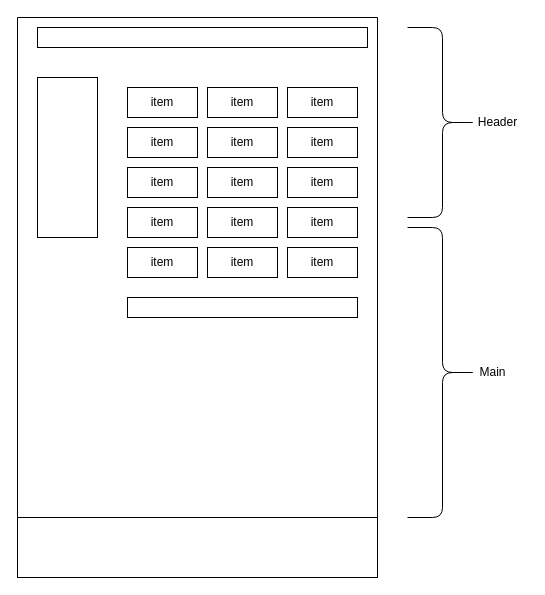
Some shapes in this 545 by 595 pixel diagram are drawn without their labels. The box of each missing label's shape, as (x1, y1, x2, y2) in pixels:
Bộ lọc filter: (36, 76, 98, 238)
Footer: (16, 516, 378, 578)
Menu: (36, 26, 368, 48)
phân trang: (126, 296, 358, 318)
